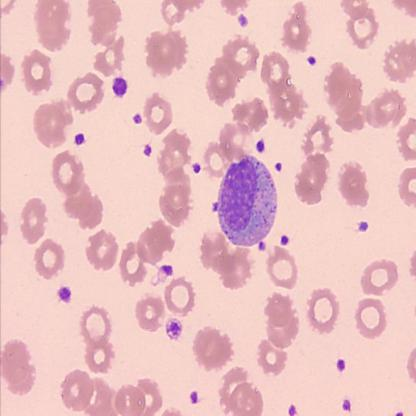Myelocyte: (217, 156, 281, 248)
